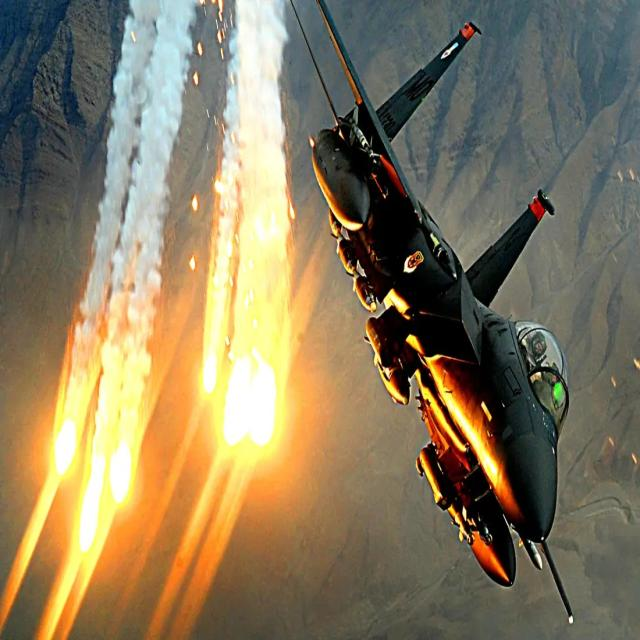MIL_Plane: (290, 1, 576, 627)
